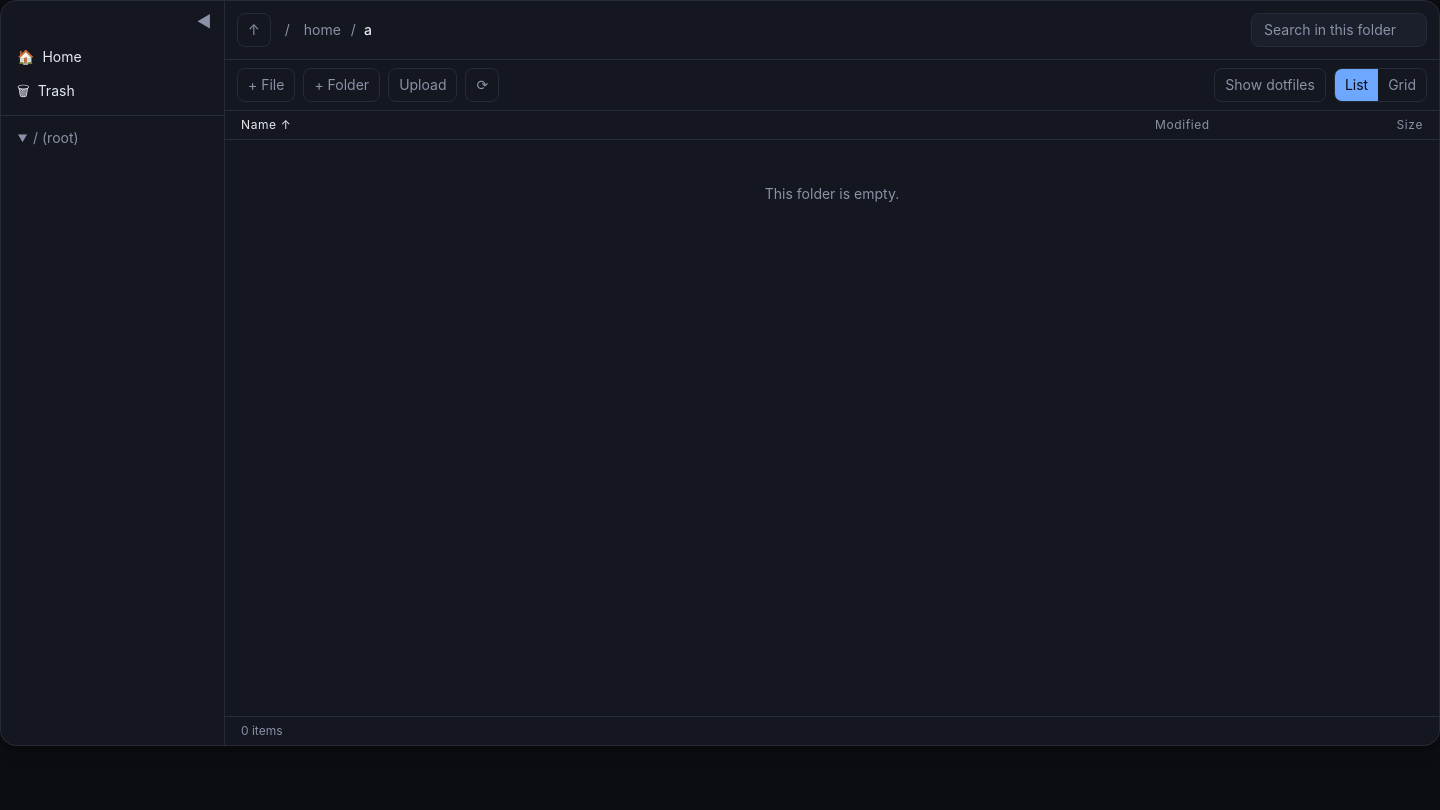
Files page › creates a folder without opening a tab
expect the text "This folder is empty." is shown: met, box [765, 185, 899, 202]
Step 1. Click the button "+ Folder" → (342, 85), box [303, 68, 380, 102]
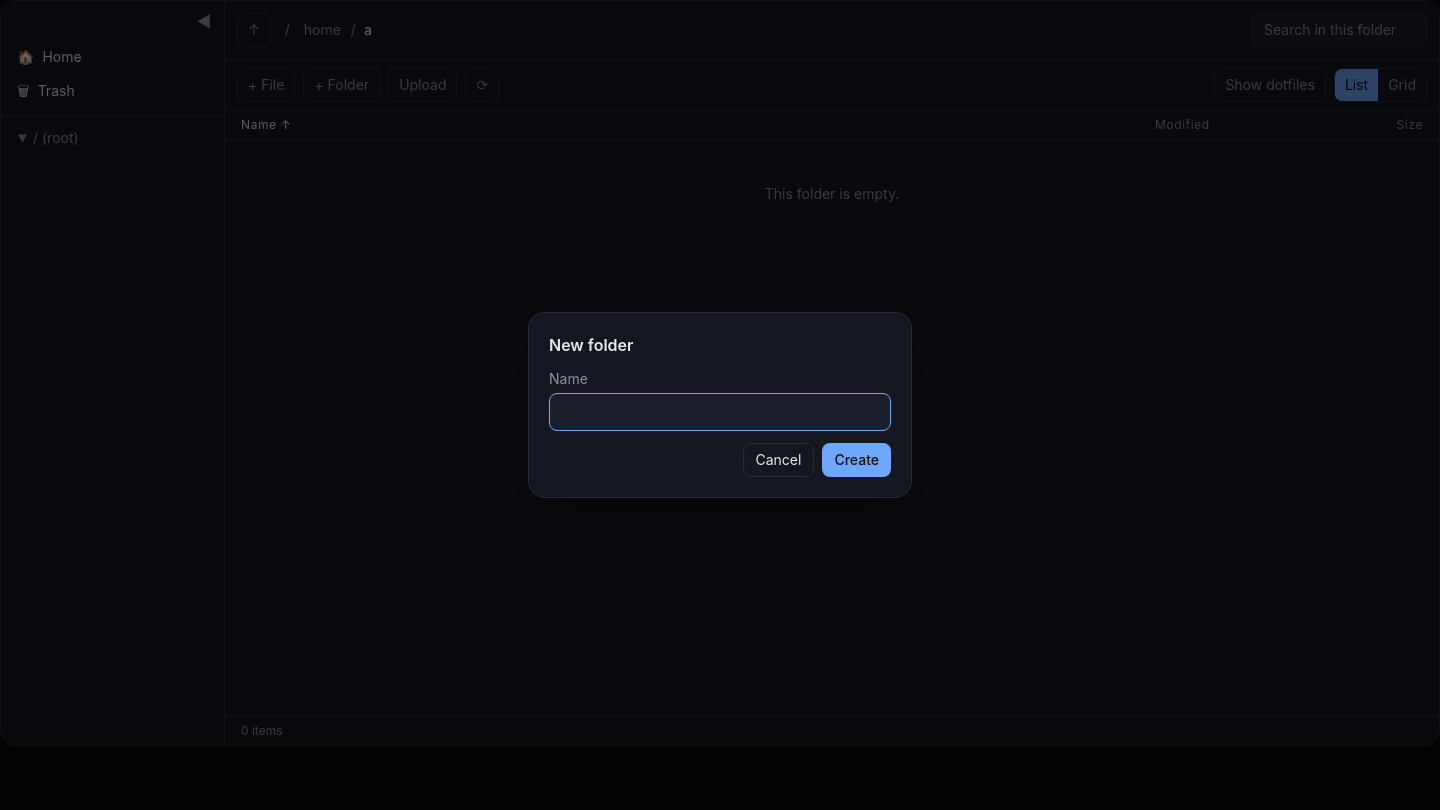
Step 2. Type "sub" into the field labelled "Name" → (720, 412), box [549, 393, 891, 431]
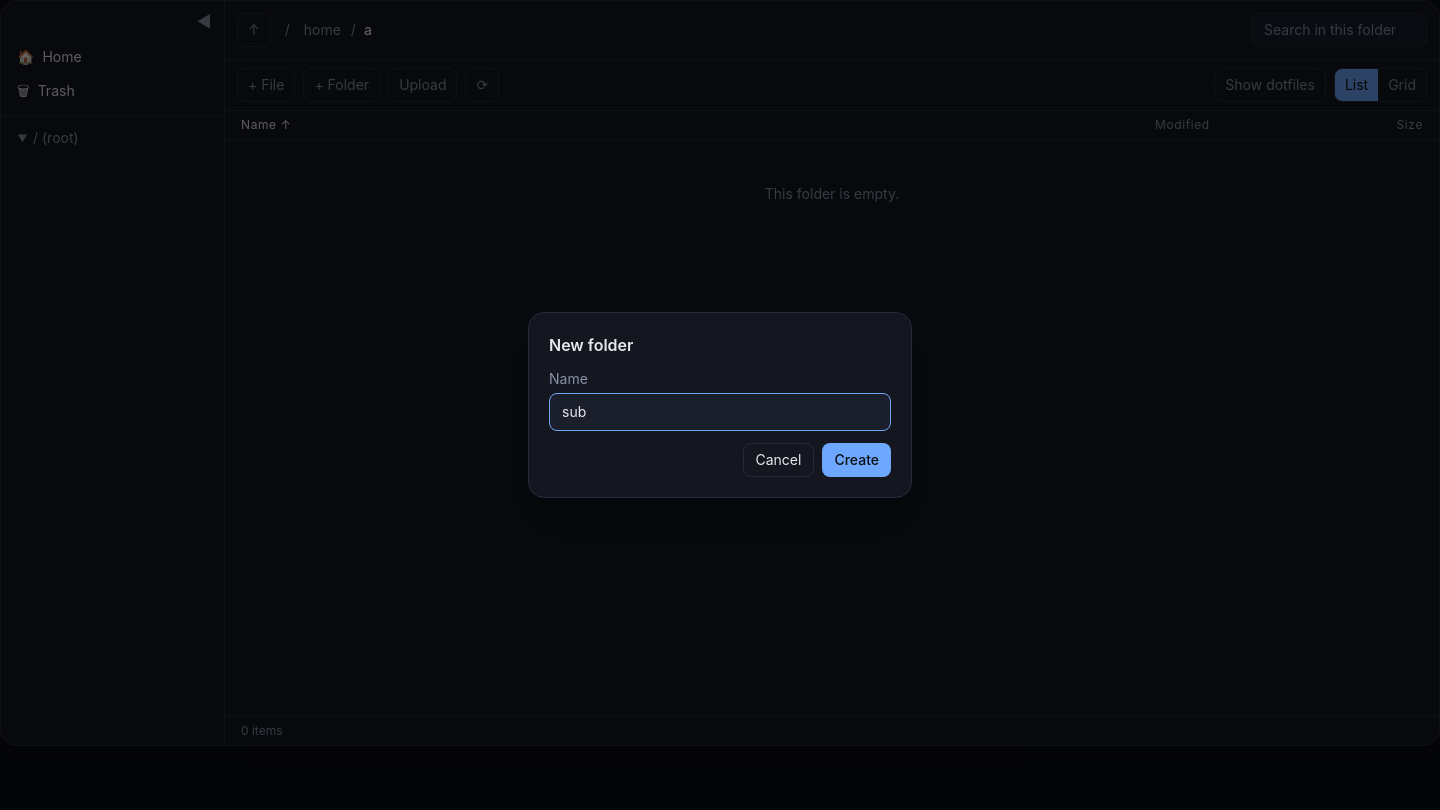
Step 3. Submit the form labelled "Name", box [549, 369, 891, 477]
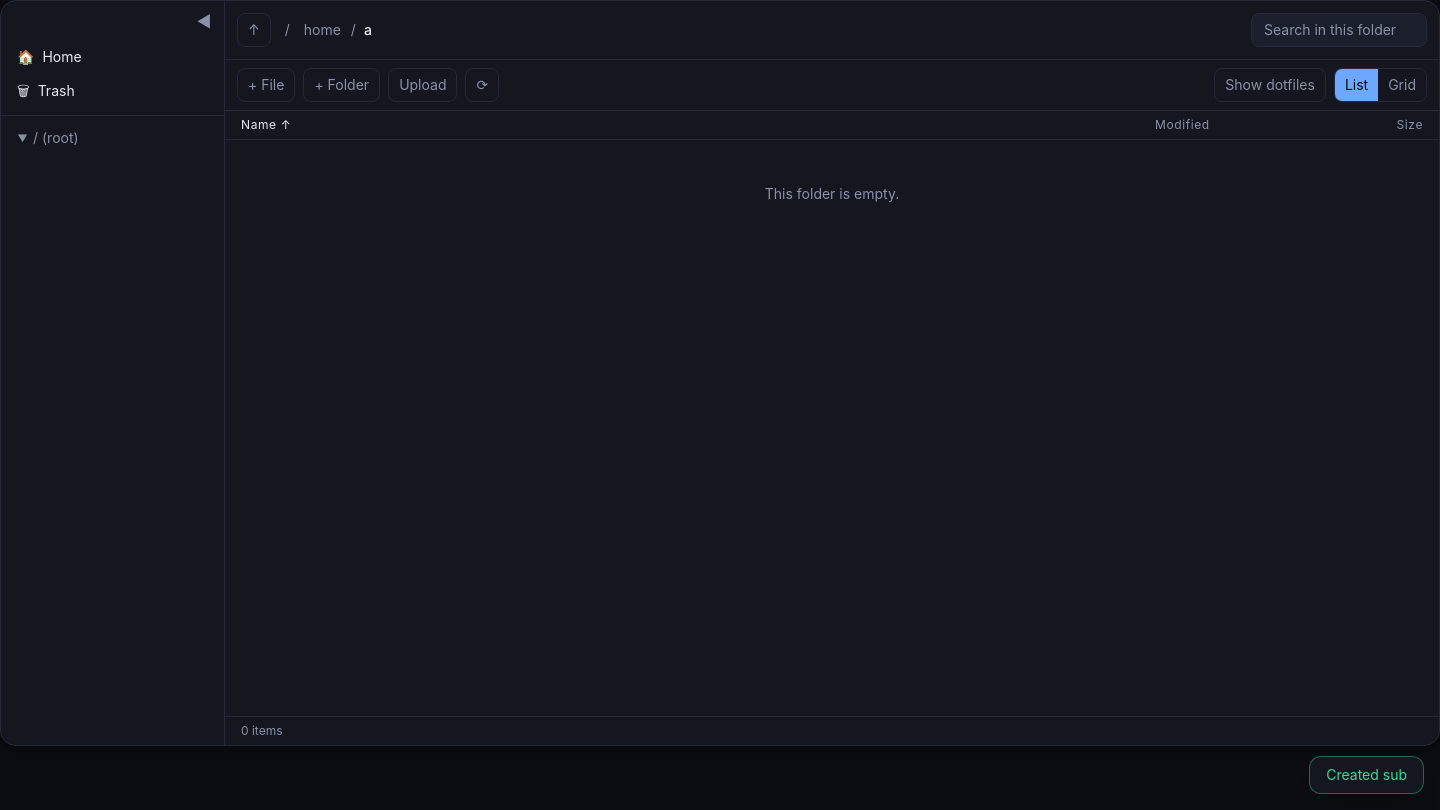
expect the text "Created sub" is shown: met, box [1309, 756, 1424, 794]
